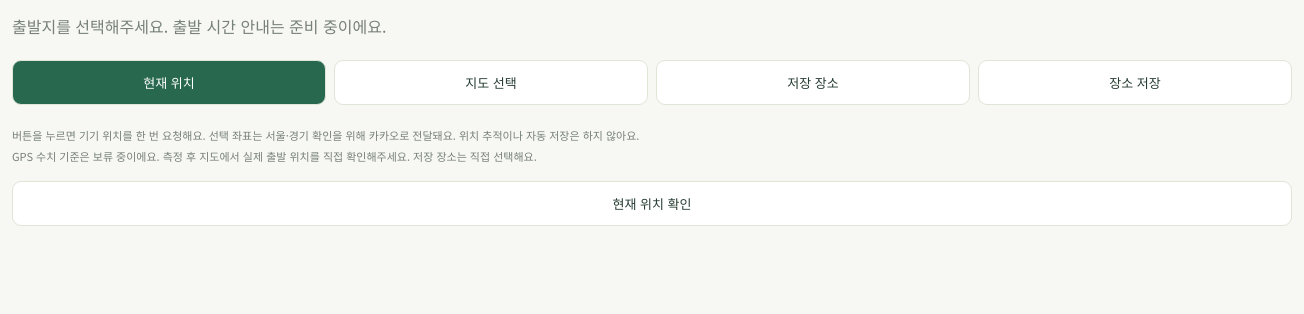
Test case: review expiry requires a new measurement without requesting GPS automatically
Click the button "현재 위치 확인" at point(652, 203), box x1=12 y1=181 x2=1292 y2=226
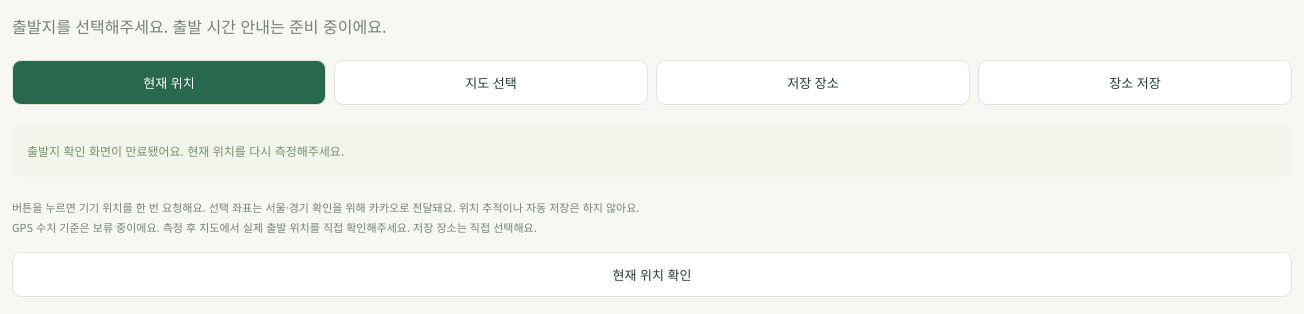
Expected: the message shows "만료", x1=12 y1=125 x2=1292 y2=177
